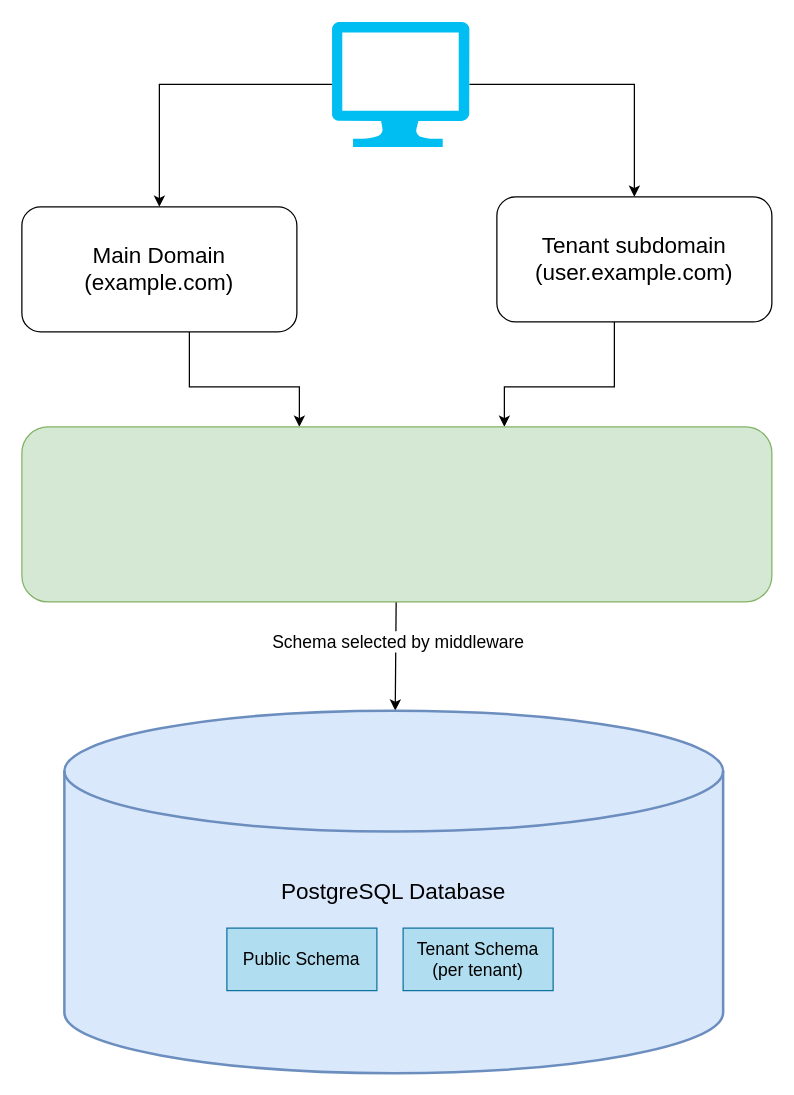
This 794x1095 diagram has some shape labels left out. The centre of each missing label's shape, as x and y in pixels:
"Django Application (Middleware + Views)" belongs at [396,514].
"User/ Browser" belongs at [400,83].
